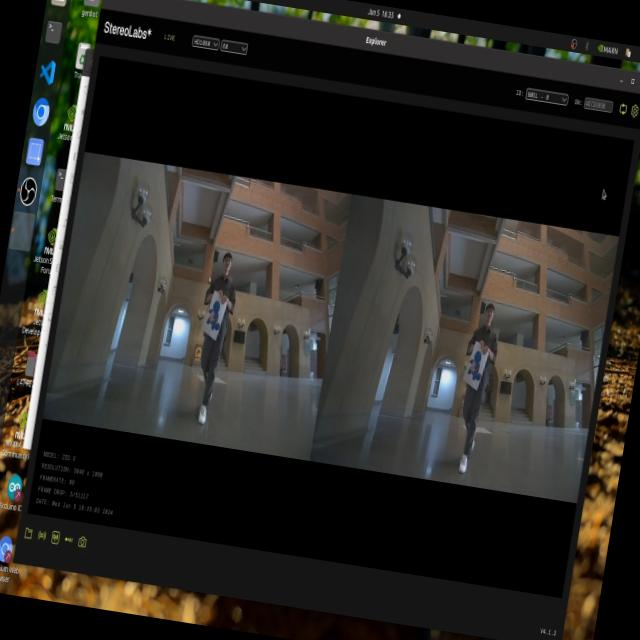blue: (198, 292, 230, 343), (462, 344, 489, 390)
